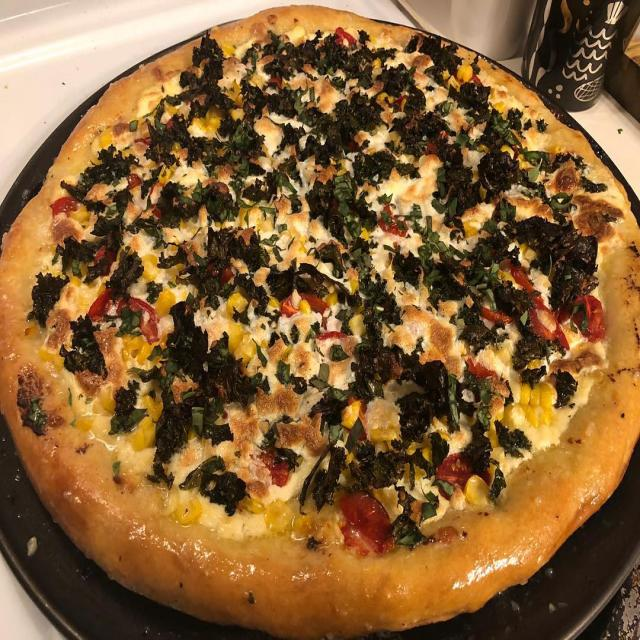pizza: (0, 7, 640, 640)
tomatoes: (87, 286, 162, 344), (340, 490, 392, 560), (436, 451, 491, 500), (528, 303, 569, 352), (574, 297, 609, 339), (282, 291, 330, 320)
